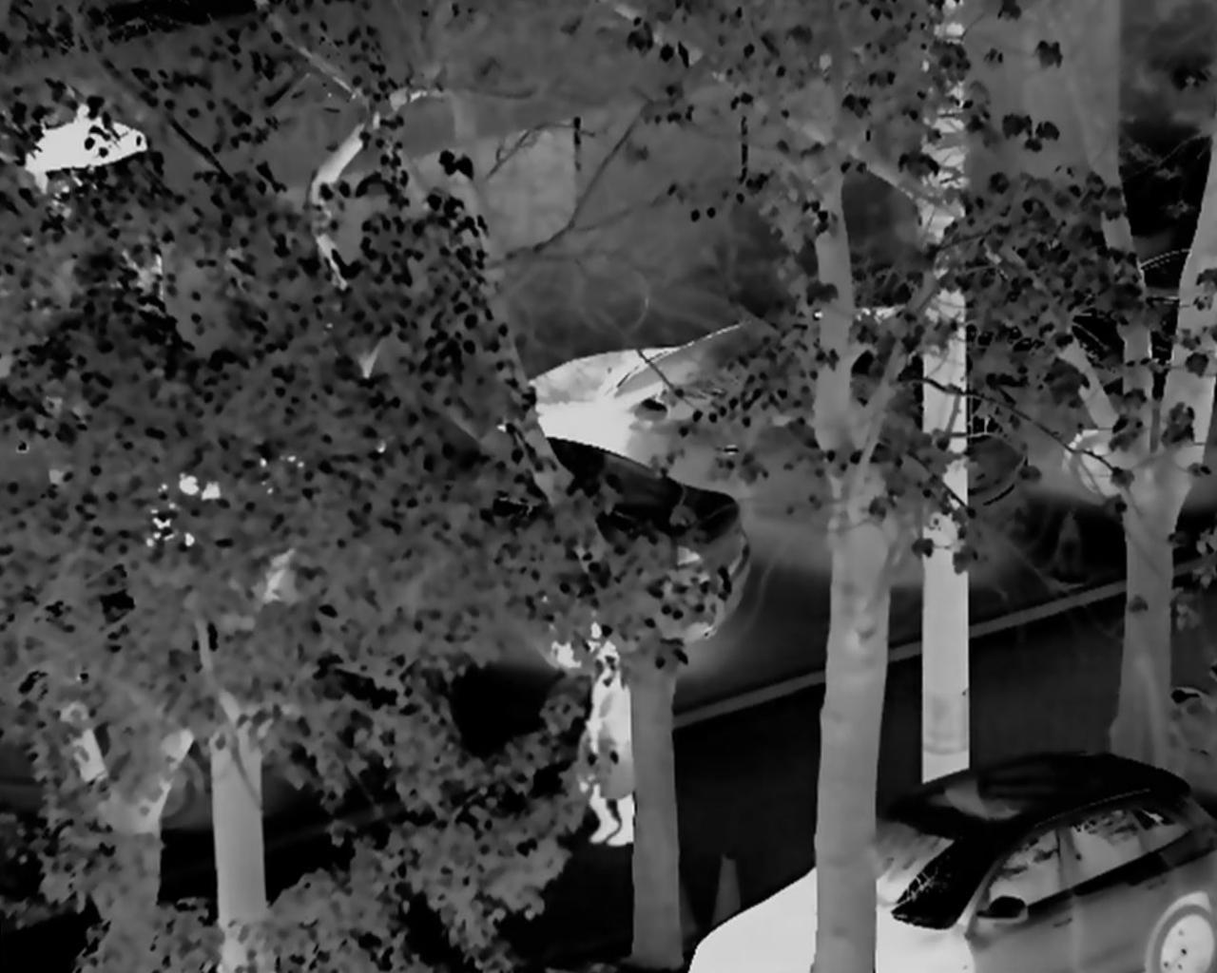person: (566, 639, 657, 847)
